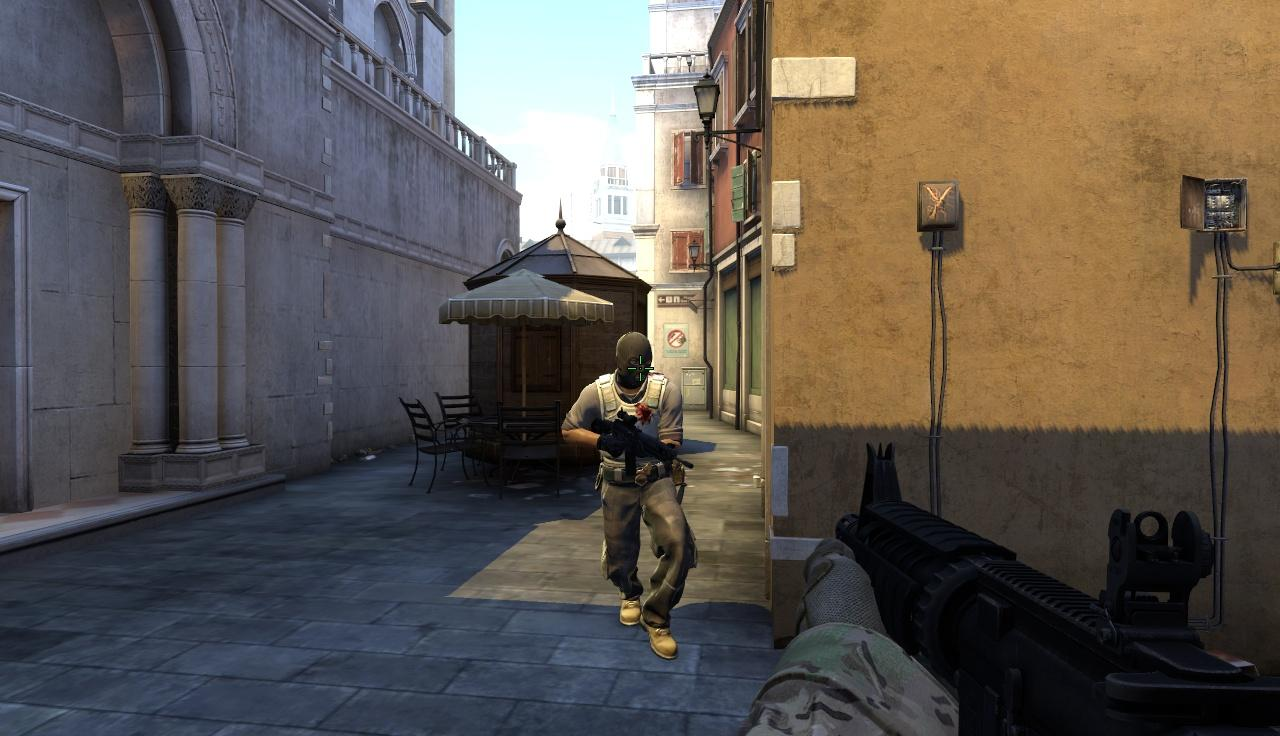rifle: (833, 442, 1280, 736)
tt: (593, 331, 691, 659)
tthead: (613, 334, 654, 388)
